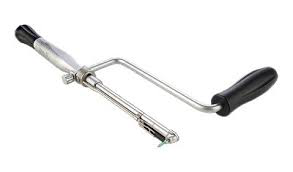Screwdriver: (16, 19, 280, 147)
